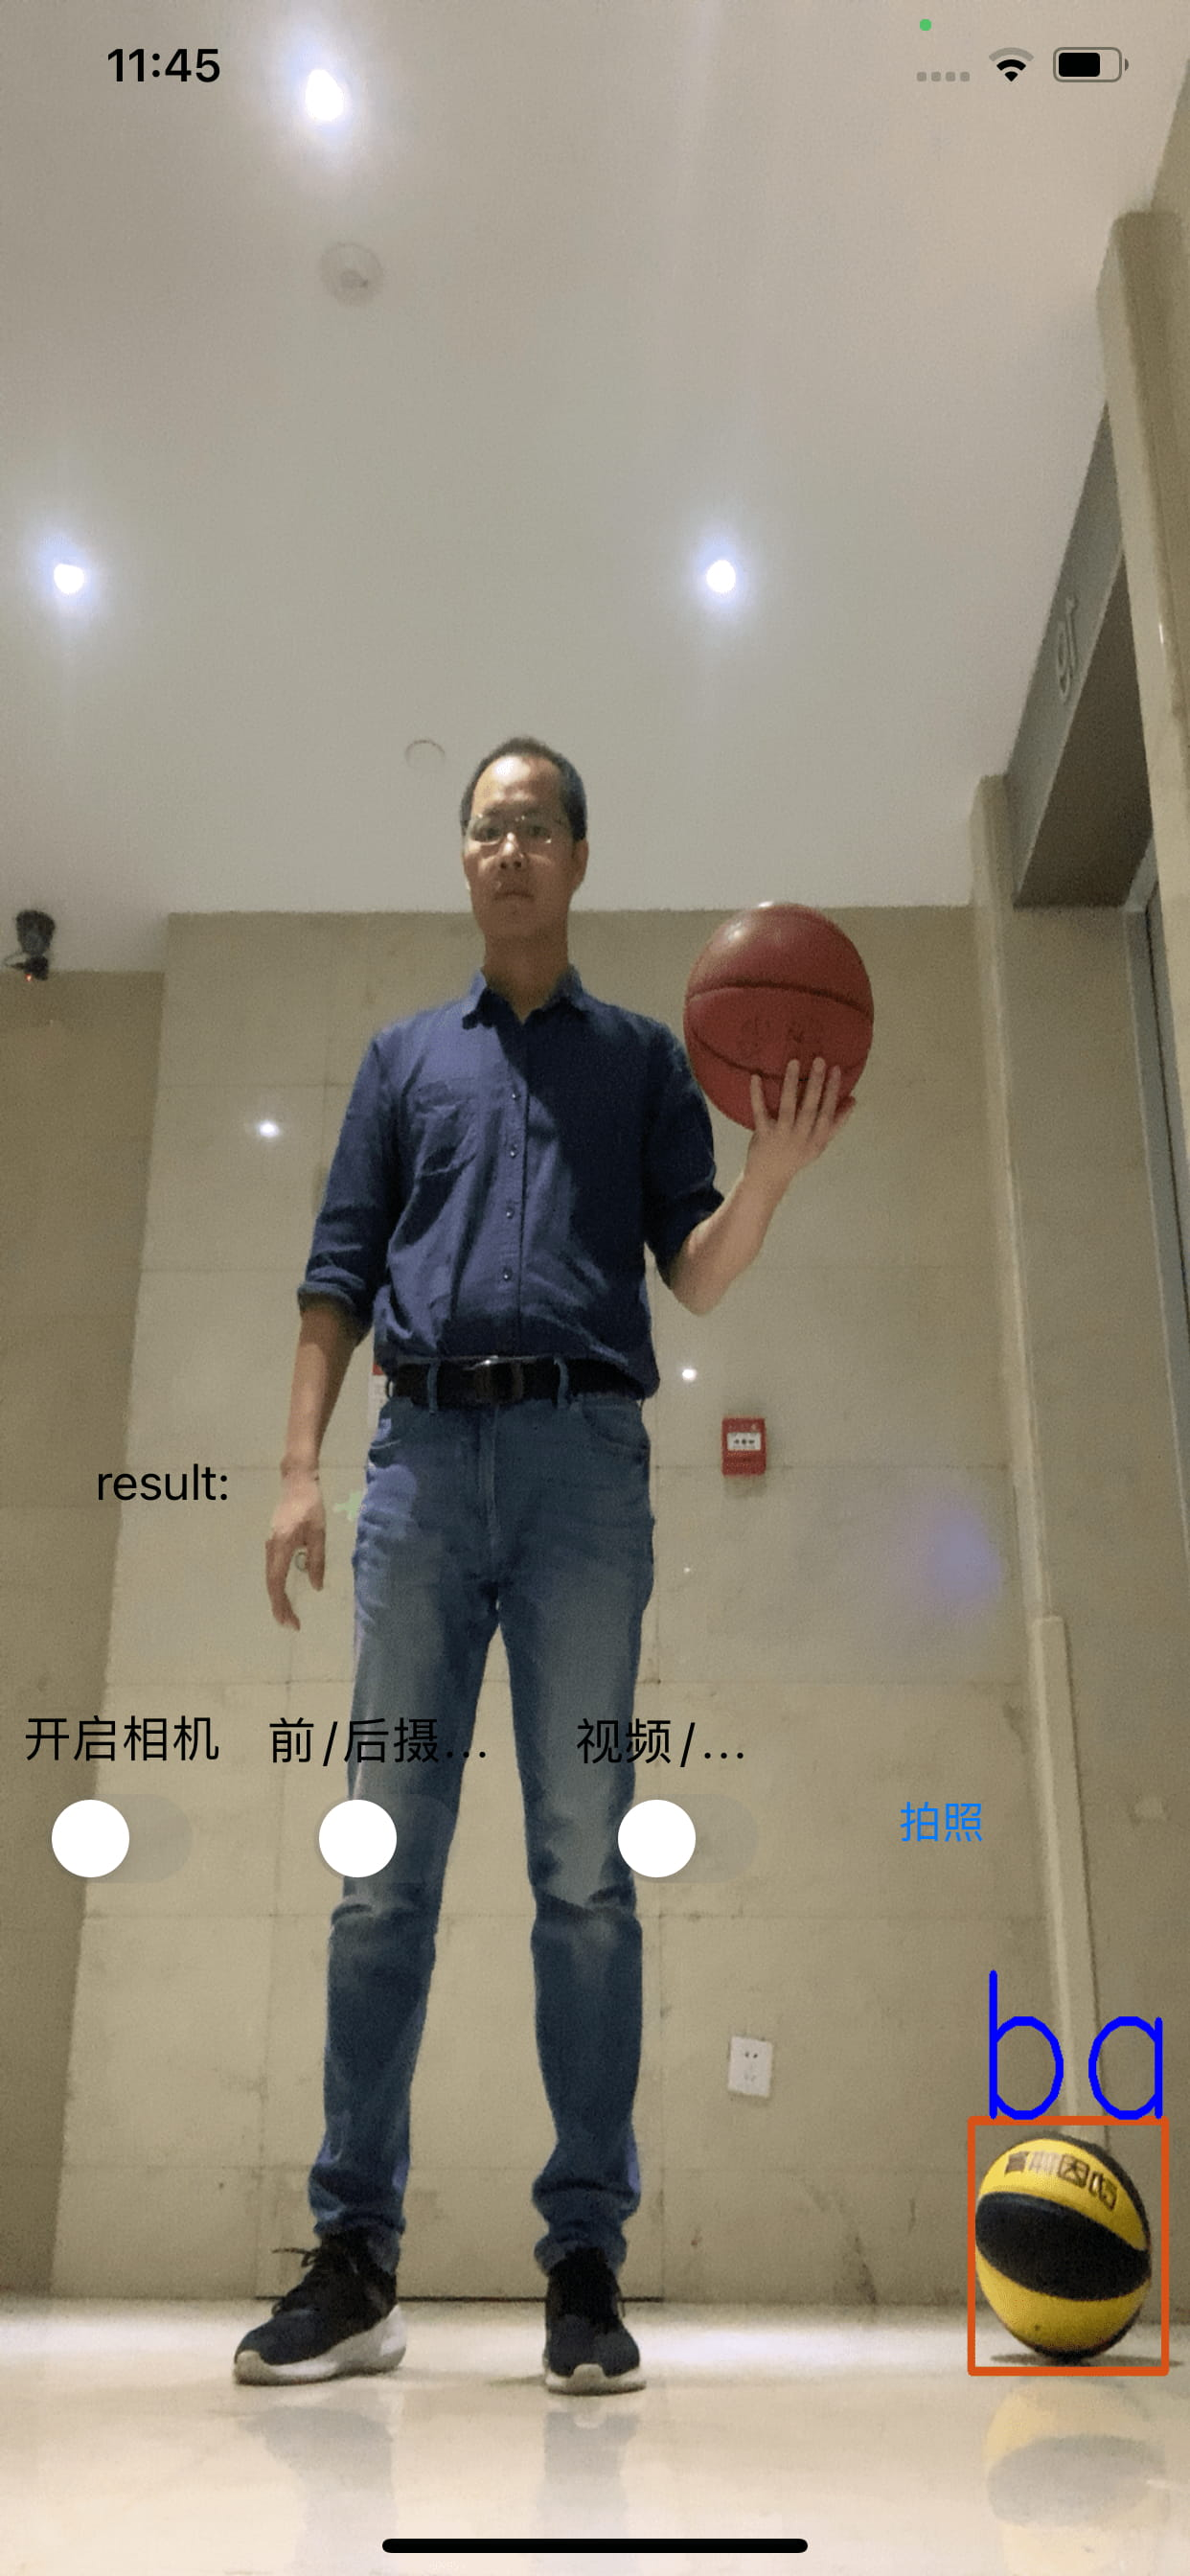ball: (674, 895, 874, 1134), (983, 2132, 1147, 2356)
